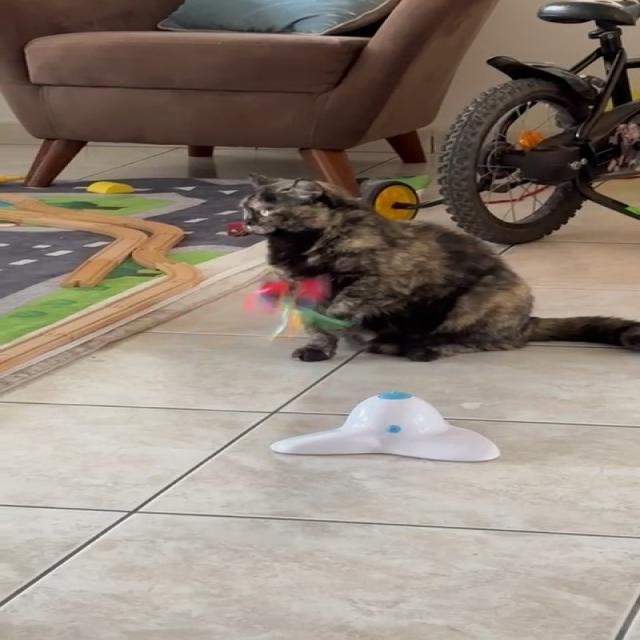authorized: (234, 171, 638, 363)
